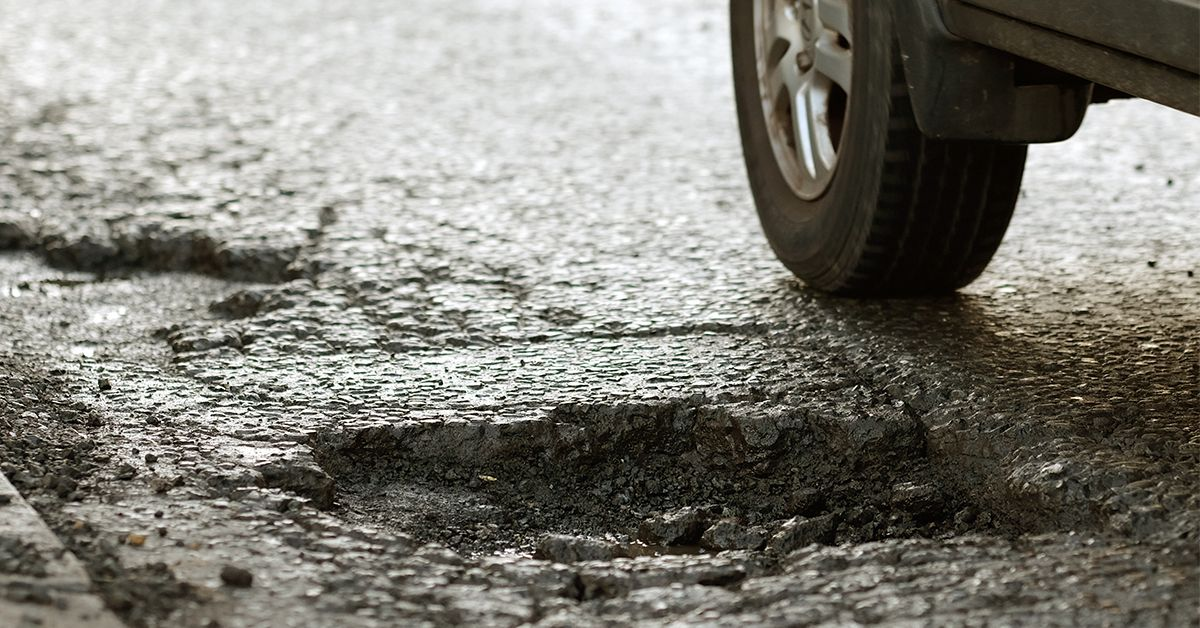Hole_in_the_road: (219, 372, 1054, 565), (19, 184, 309, 373)
